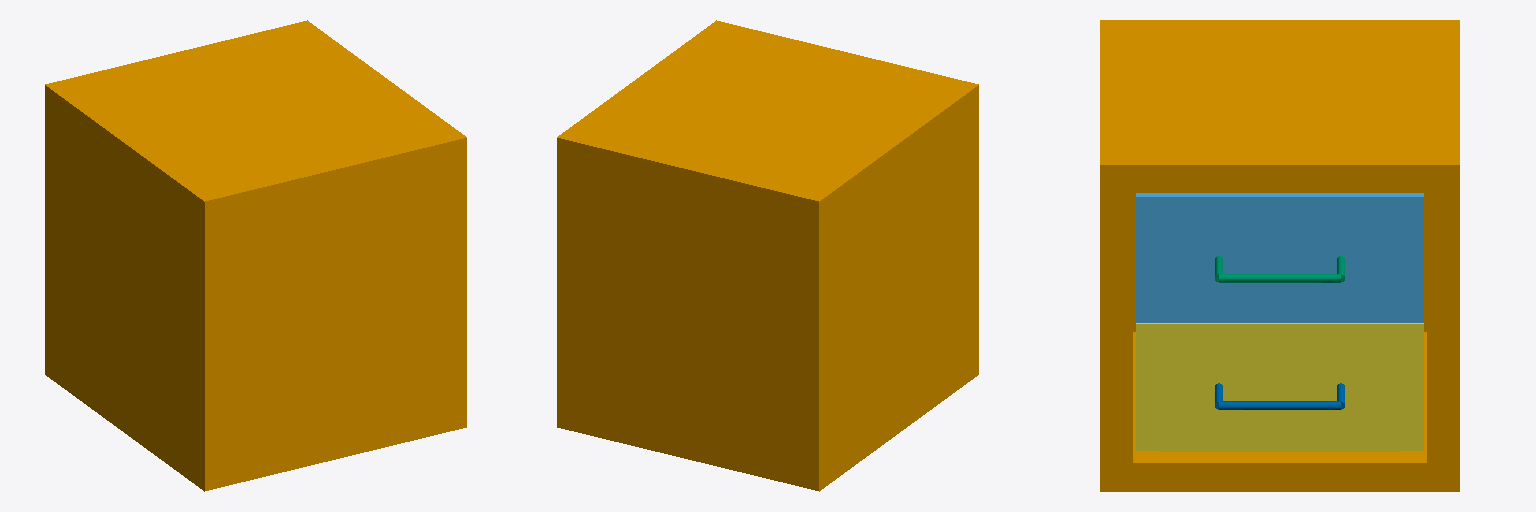
The robot description file, URDF, robot "small_shelf_drawer":
<robot name="small_shelf_drawer">
  <link name="body">
    <visual>
      <origin rpy="0 0 0" xyz="0 0 0.1885"/>
      <geometry>
        <box size="0.392 0.413 0.036"/>
      </geometry>
    </visual>
    <visual>
      <origin rpy="0 0 0" xyz="0 0 -0.1885"/>
      <geometry>
        <box size="0.392 0.413 0.036"/>
      </geometry>
    </visual>
    <visual>
      <origin rpy="0 0 0" xyz="0 0.1875 0"/>
      <geometry>
        <box size="0.392 0.038 0.347"/>
      </geometry>
    </visual>
    <visual>
      <origin rpy="0 0 0" xyz="0 -0.1875 0"/>
      <geometry>
        <box size="0.392 0.038 0.347"/>
      </geometry>
    </visual>
    <visual>
      <origin rpy="0 0 0" xyz="-0.178 0 0"/>
      <geometry>
        <box size="0.036 0.347 0.341"/>
      </geometry>
    </visual>
  </link>
  
  <link name="drawer_top">
    <origin rpy="0 0 0" xyz="0 0 0"/>
    <visual>
      <origin rpy="0 0 0" xyz="0.166 0 0"/>
      <geometry>
        <box size="0.015 0.33 0.16"/>
      </geometry>
    </visual>
    <visual>
      <origin rpy="0 0 0" xyz="-0.0065 0.144 -0.02"/>
      <geometry>
        <box size="0.33 0.012 0.085"/>
      </geometry>
    </visual>
    <visual>
      <origin rpy="0 0 0" xyz="-0.0065 -0.144 -0.0295"/>
      <geometry>
        <box size="0.33 0.012 0.085"/>
      </geometry>
    </visual>
    <visual>
      <origin rpy="0 0 0" xyz="-0.1675 0 -0.02"/>
      <geometry>
        <box size="0.012 0.276 0.085"/>
      </geometry>
    </visual>
    <visual>
      <origin rpy="0 0 0" xyz="0 0 -0.05"/>
      <geometry>
        <box size="0.33 0.276 0.01"/>
      </geometry>
    </visual>
  </link>

  <joint name="drawer_top_joint" type="prismatic">
    <origin rpy="0 0 0" xyz="0.02 0 0.08525" />
    <parent link="body" />
    <child link="drawer_top" />
    <axis xyz="1 0 0" />
    <limit effort="60" lower="0.0" upper="0.22" velocity="1.0"/>
  </joint>

  <link name="handle_top">
    <visual>
      <origin rpy="1.57 0 0" xyz="0.05 0 0"/>
      <geometry>
        <cylinder radius="0.005" length="0.14"/>
      </geometry>
    </visual>
    <visual>
      <origin rpy="0 1.57 0" xyz="0.025 0.07 0"/>
      <geometry>
        <cylinder radius="0.005" length="0.05"/>
      </geometry>
    </visual>
    <visual>
      <origin rpy="0 1.57 0" xyz="0.025 -0.07 0"/>
      <geometry>
        <cylinder radius="0.005" length="0.05"/>
      </geometry>
    </visual>
  </link>
  
  <joint name="handle_top_joint" type="fixed">
    <origin rpy="0 0 0" xyz="0.1735 0 0" />
    <parent link="drawer_top" />
    <child link="handle_top" />
  </joint>


  <link name="drawer_bottom">
    <origin rpy="0 0 0" xyz="0.02 0 0"/>
    <visual>
      <origin rpy="0 0 0" xyz="0.166 0 0"/>
      <geometry>
        <box size="0.015 0.33 0.16"/>
      </geometry>
    </visual>
    <visual>
      <origin rpy="0 0 0" xyz="-0.0065 0.144 -0.0295"/>
      <geometry>
        <box size="0.33 0.012 0.085"/>
      </geometry>
    </visual>
    <visual>
      <origin rpy="0 0 0" xyz="-0.0065 -0.144 -0.0295"/>
      <geometry>
        <box size="0.33 0.012 0.085"/>
      </geometry>
    </visual>
    <visual>
      <origin rpy="0 0 0" xyz="-0.1675 0 -0.0295"/>
      <geometry>
        <box size="0.012 0.276 0.085"/>
      </geometry>
    </visual>
    <visual>
      <origin rpy="0 0 0" xyz="0 0 -0.05"/>
      <geometry>
        <box size="0.33 0.276 0.1"/>
      </geometry>
    </visual>
  </link>

  <joint name="drawer_bottom_joint" type="prismatic">
    <origin rpy="0 0 0" xyz="0 0 -0.08525" />
    <parent link="body" />
    <child link="drawer_bottom" />
    <axis xyz="1 0 0" />
    <limit effort="60" lower="0.0" upper="0.22" velocity="1.0"/>
  </joint>

  <link name="handle_bottom">
    <visual>
      <origin rpy="1.57 0 0" xyz="0.05 0 0"/>
      <geometry>
        <cylinder radius="0.005" length="0.14"/>
      </geometry>
    </visual>
    <visual>
      <origin rpy="0 1.57 0" xyz="0.025 0.07 0"/>
      <geometry>
        <cylinder radius="0.005" length="0.05"/>
      </geometry>
    </visual>
    <visual>
      <origin rpy="0 1.57 0" xyz="0.025 -0.07 0"/>
      <geometry>
        <cylinder radius="0.005" length="0.05"/>
      </geometry>
    </visual>
  </link>
  
  <joint name="handle_bottom_joint" type="fixed">
    <origin rpy="0 0 0" xyz="0.1735 0 0" />
    <parent link="drawer_bottom" />
    <child link="handle_bottom" />
  </joint>

  <link name="marker_body"/>

  <joint name="marker_body_joint" type="fixed">
    <origin rpy="0 0 0" xyz="-0.147 0.1575 0.2065"/>
    <parent link="body"/>
    <child  link="marker_body"/>
  </joint>

  <link name="marker_drawer_top"/>

  <joint name="marker_drawer_top_joint" type="fixed">
    <origin rpy="1.57 0 1.57" xyz="0.1735 -0.116 0.031"/>
    <parent link="drawer_top"/>
    <child  link="marker_drawer_top"/>
  </joint>

  <link name="marker_drawer_bottom"/>

  <joint name="marker_drawer_bottom_joint" type="fixed">
    <origin rpy="1.57 0 1.57" xyz="0.1735 -0.116 0.031"/>
    <parent link="drawer_bottom"/>
    <child  link="marker_drawer_bottom"/>
  </joint>
</robot>

--- Facts derived from the render (not from the file) ---
Views: 3 orthographic renders of the robot side by side, from view 1: azimuth 30°, elevation 25°; view 2: azimuth 150°, elevation 25°; view 3: azimuth 270°, elevation 25°.
Model small_shelf_drawer with 8 links and 7 joints (2 prismatic, 5 fixed), rooted at body, posed every joint at zero.
Links seen in each view (by area): view 1: body; view 2: body; view 3: body, drawer_top, drawer_bottom, handle_top, handle_bottom.
Link boxes in pixels (<box>): body: <box>45,20,466,491</box>; body: <box>557,20,978,491</box>; body: <box>1100,20,1459,491</box>; drawer_top: <box>1136,193,1423,322</box>; drawer_bottom: <box>1136,323,1423,451</box>; handle_top: <box>1215,256,1344,282</box>; handle_bottom: <box>1215,383,1344,409</box>.
Size in the robot's own frame: 0.4445 by 0.413 by 0.413 metres.
Geometry: primitives only (box / cylinder / sphere), no mesh files.